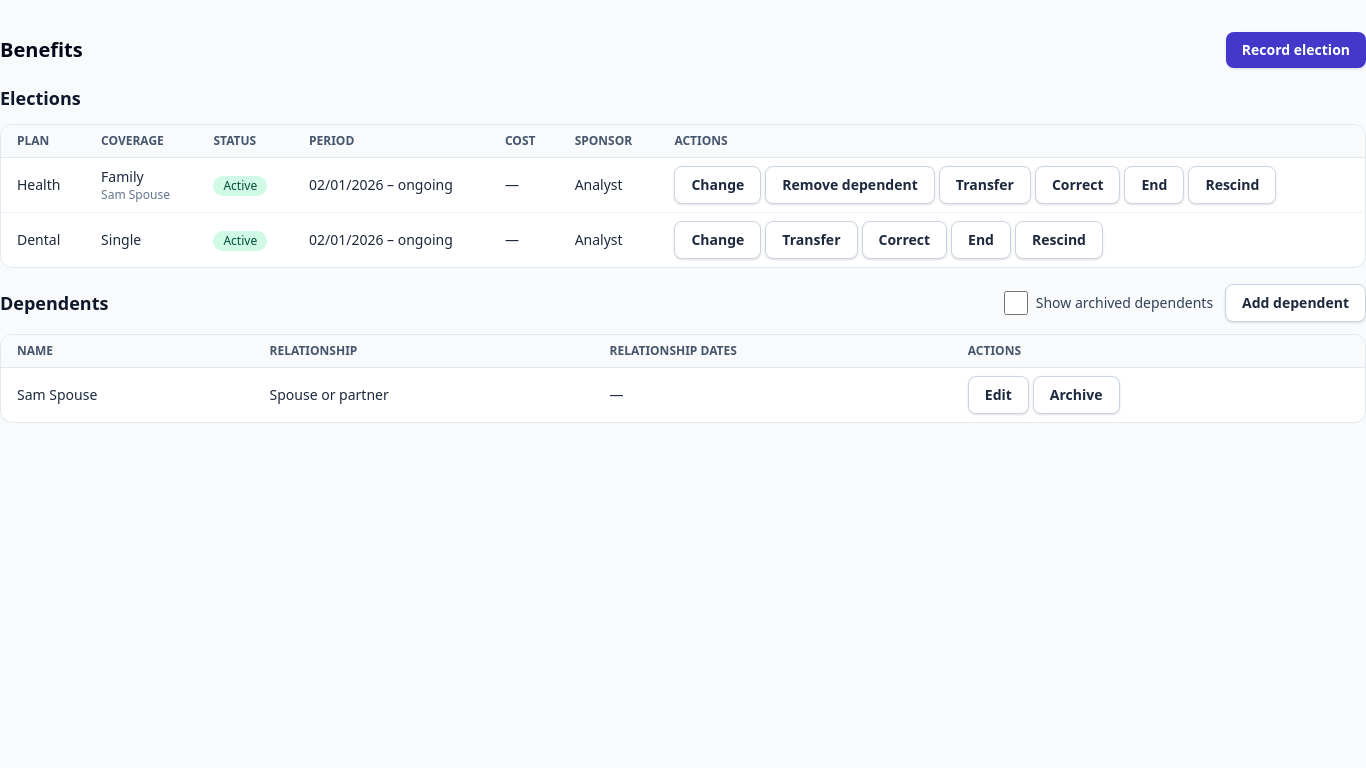
Test: EmployeeBenefitsSection (Batch 7C) › never carries one election’s form into another (regression: stale panel state)
Click the button with aria-label "Change coverage for Health" at [718, 185], box [674,166,761,204]
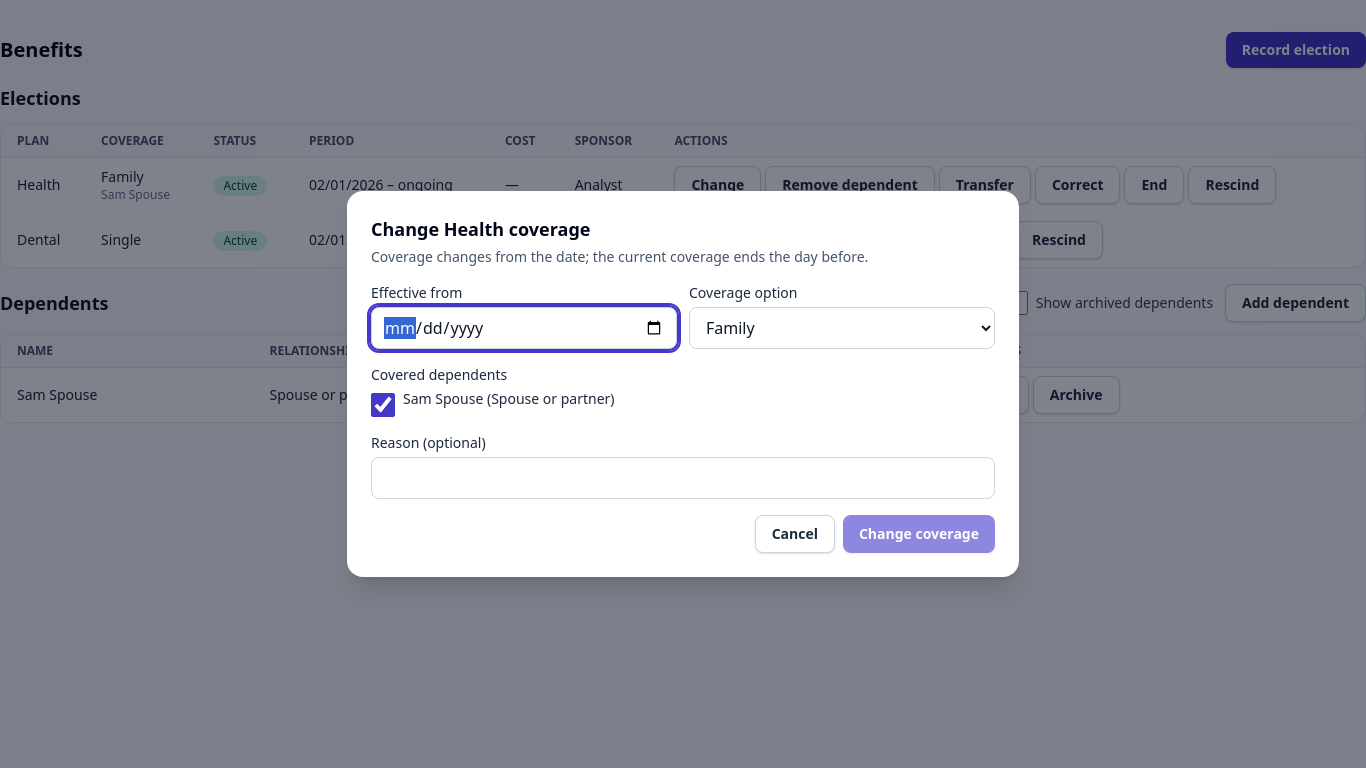
Type "2026-06-01" into the date field labelled "Effective from" at [524, 328], box [371,307,677,349]
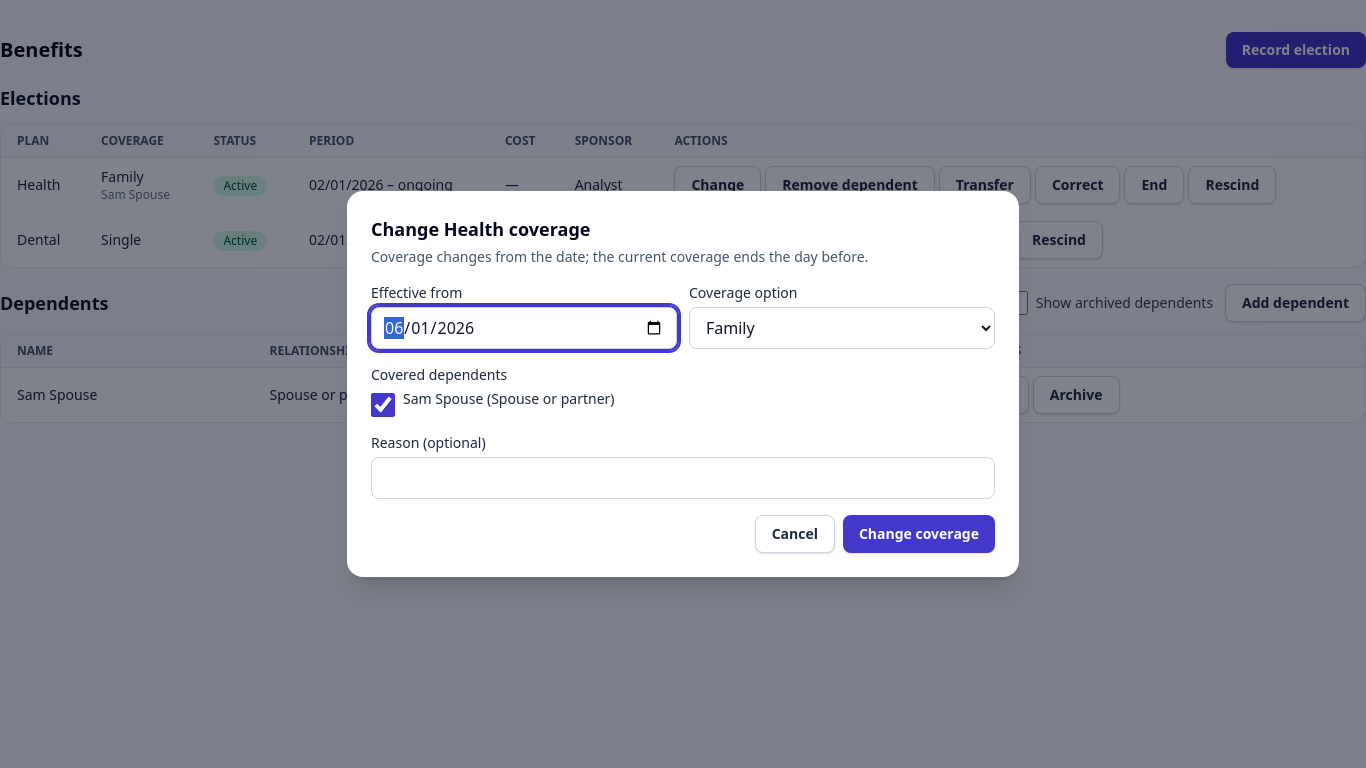
Now the checkbox labelled "Sam Spouse (Spouse or partner)" is checked, box [371,393,395,417]
Click the button "Cancel" at [795, 534], box [755,515,835,553]
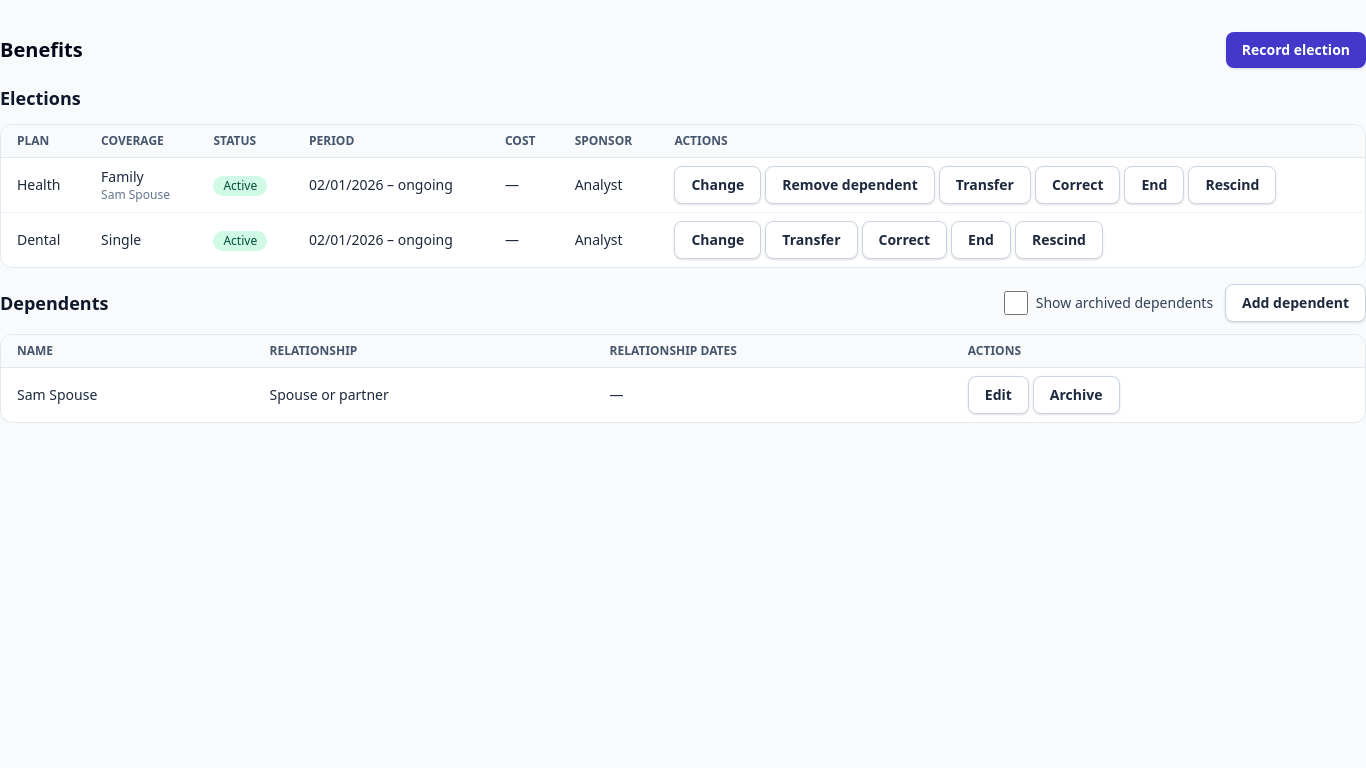
Click the button with aria-label "Change coverage for Dental" at [718, 240], box [674,221,761,259]
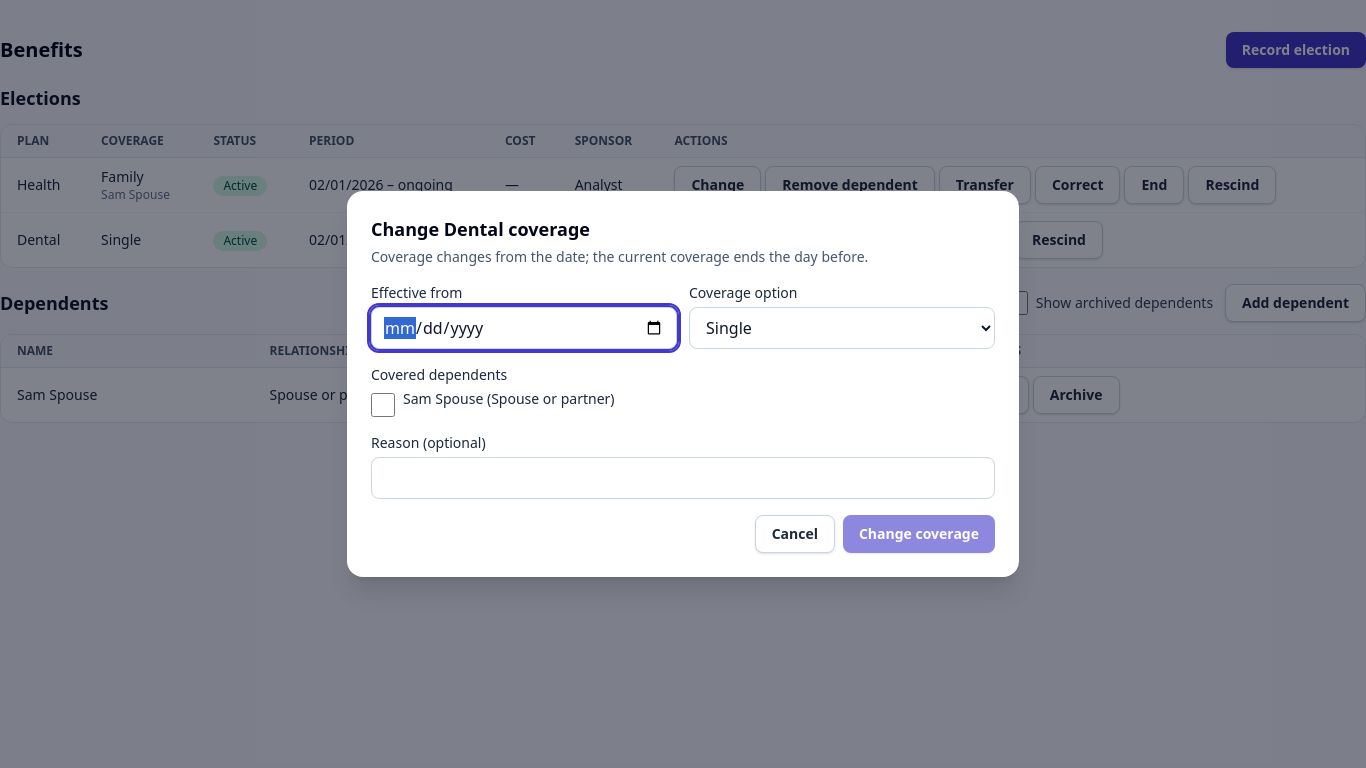
Now the date field labelled "Effective from" is empty, box [371,307,677,349]
Now the checkbox labelled "Sam Spouse (Spouse or partner)" is not checked, box [371,393,395,417]
